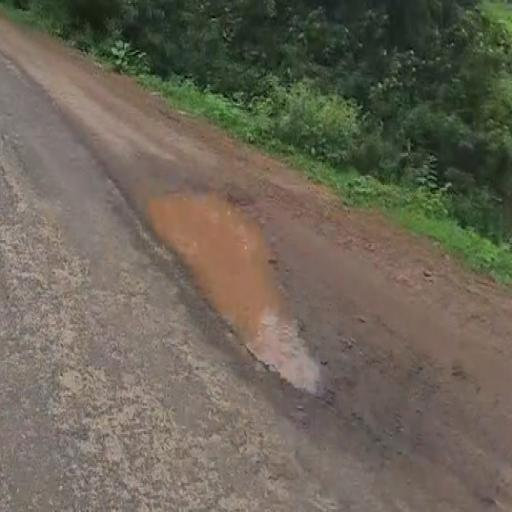ravelling: (18, 243, 193, 494)
